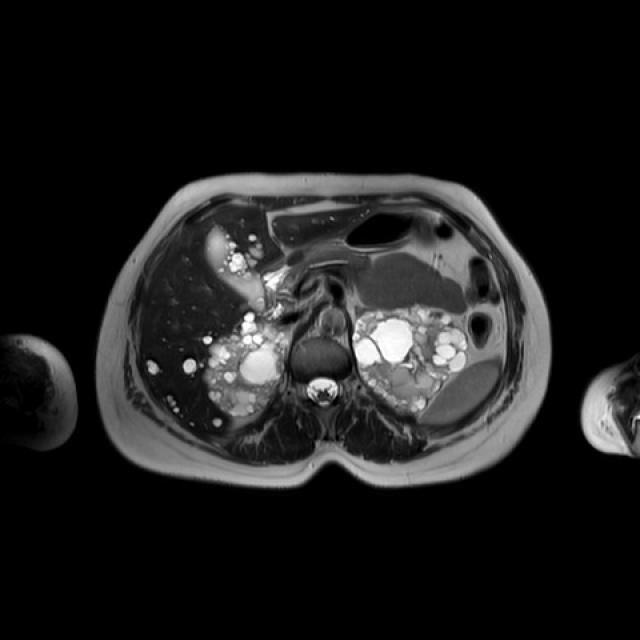sag: (202, 321, 288, 418)
sol: (352, 305, 469, 417)
